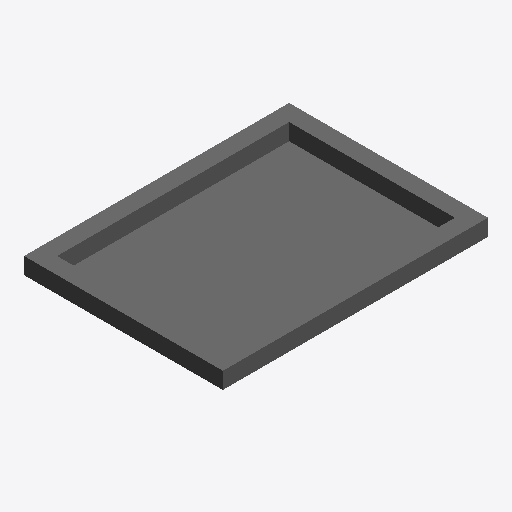
A Minecraft block model of 5 cuboids, rendered isometrically (azimuth 45°, elevation 35.3°) with the resource pack's own textures.
Visible parts, largest first — element 1, element 4, element 5, element 3, element 2.
Part boxes in pixels (x1,y1,x2,y2): element 1: (74,141,437,350); element 4: (206,208,487,389); element 5: (24,103,305,284); element 3: (41,256,222,379); element 2: (289,113,470,226).
Bounding box in the file's own units: 16 × 2 × 12.